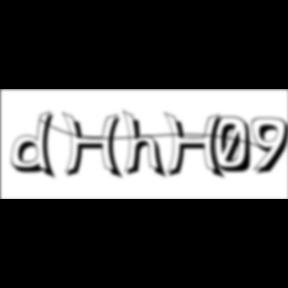0: (214, 115, 260, 174)
H: (62, 112, 128, 182), (164, 112, 230, 182)
d: (12, 110, 62, 182)
h: (122, 108, 170, 182)
